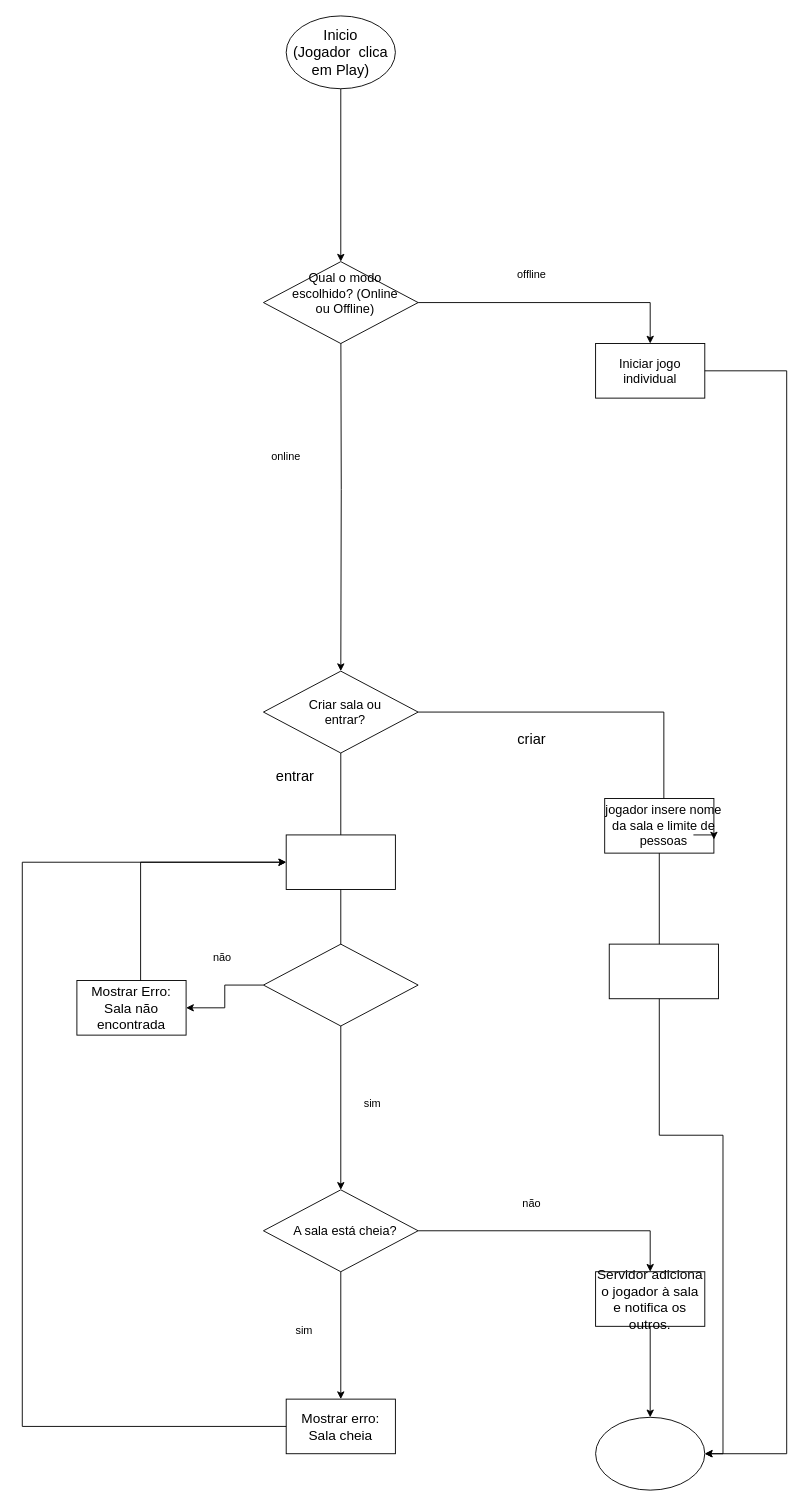
Some shapes in this 810 by 1506 pixel diagram are drawn without their labels. The centre of each missing label's shape, as x and y in pixels:
"A sala existe?" belongs at point (340, 984).
"Fim" belongs at point (650, 1453).
"Jogador insere o Nome/Código da Sala" belongs at point (340, 862).
"Servidor cria a Sala e o Jogador entra (Host)" belongs at point (663, 971).
